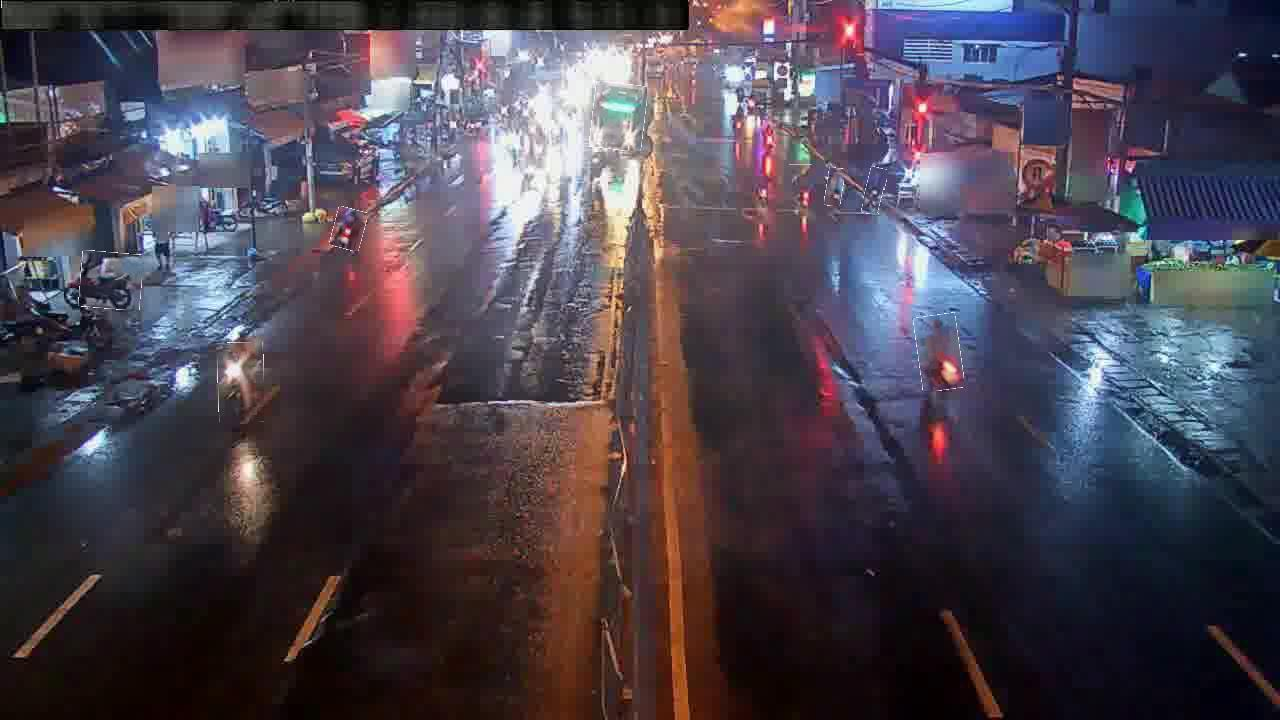motorbike: (218, 343, 264, 423), (79, 252, 142, 310), (916, 314, 963, 391), (332, 208, 366, 251), (789, 164, 813, 211), (864, 167, 886, 215), (826, 168, 844, 207)
passenger_car: (591, 83, 647, 151)
